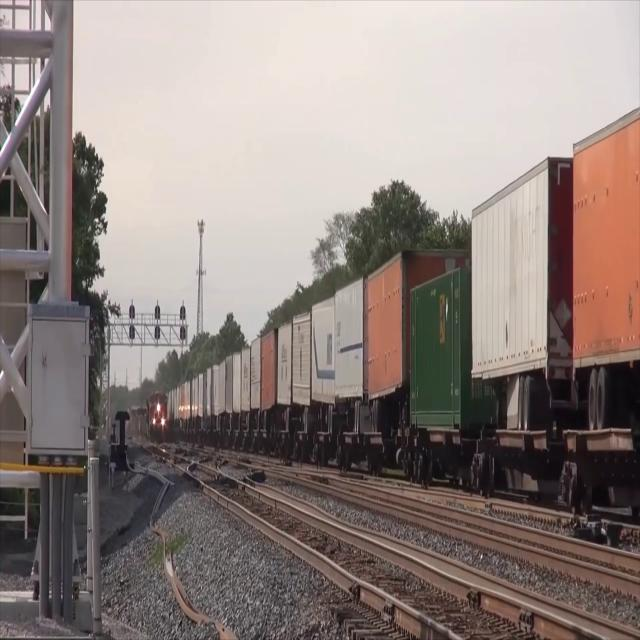cargo: (464, 147, 568, 429), (569, 101, 640, 429), (367, 242, 428, 435)
container: (410, 265, 488, 429)
flatcar: (559, 422, 640, 522), (467, 422, 563, 502)
locomotive: (146, 386, 170, 441)
